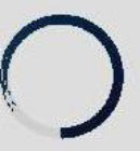ProgressBar: (1, 1, 139, 150)
